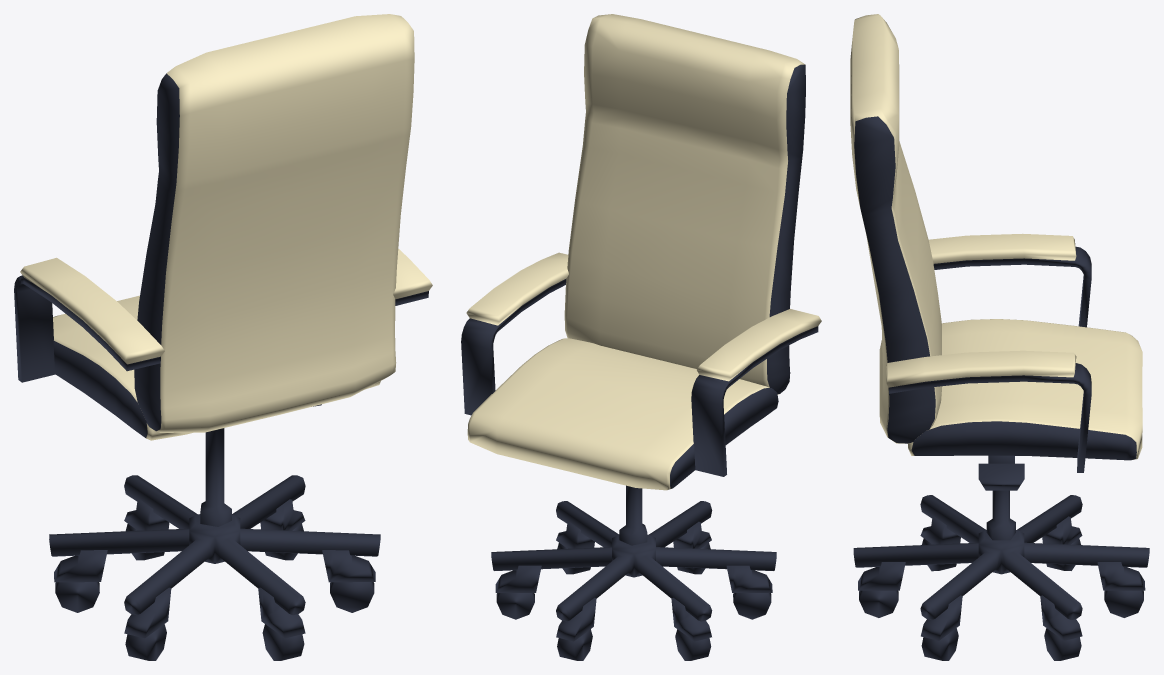
Rendered from chair2.glb.
3 views of the same model, side by side, from view 1: azimuth 30°, elevation 25°; view 2: azimuth 150°, elevation 25°; view 3: azimuth 270°, elevation 25° (orthographic). The views are drawn at different scales.
Visible parts, largest first — view 1: Chair; view 2: Chair; view 3: Chair.
Part boxes in pixels (box(x1,y1,x2,y2)): Chair: box(14, 14, 432, 660); Chair: box(461, 14, 821, 660); Chair: box(850, 14, 1149, 660).
Size of what is drawn, in the model's own units: 3.49 by 6.75 by 3.29.
Materials: 1 (1 with a texture image).
